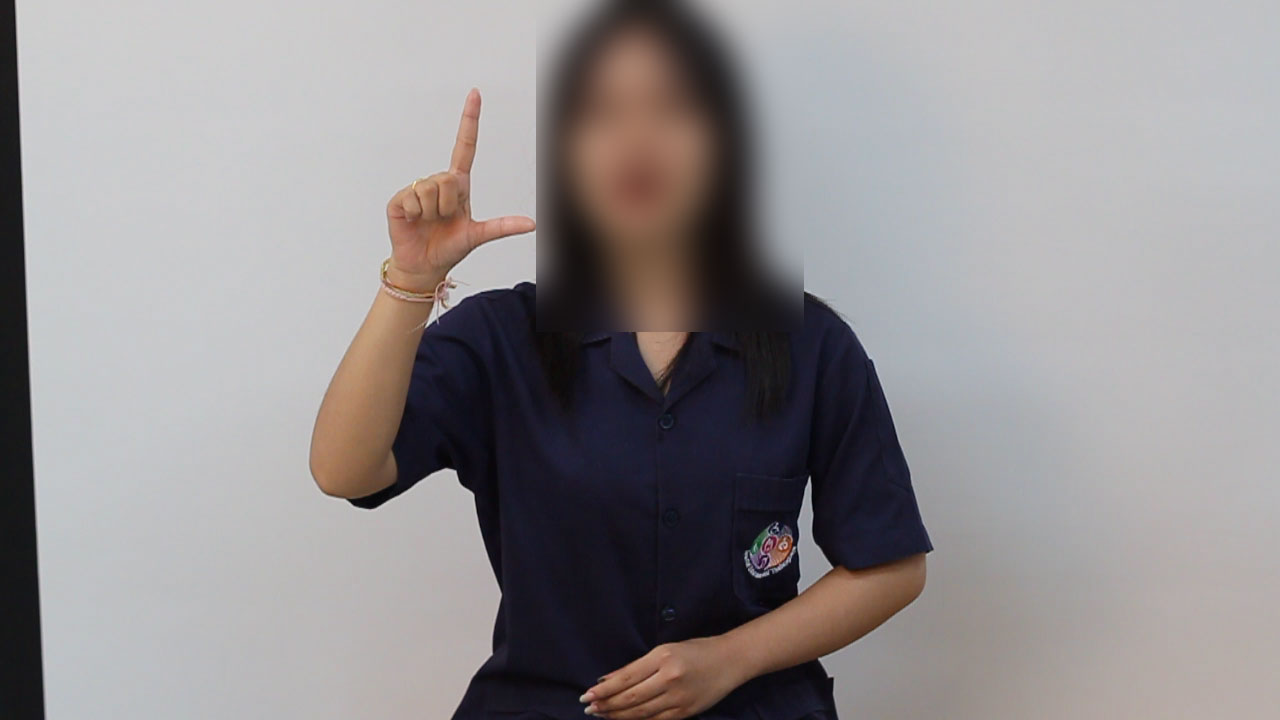lor: (364, 85, 584, 294)
